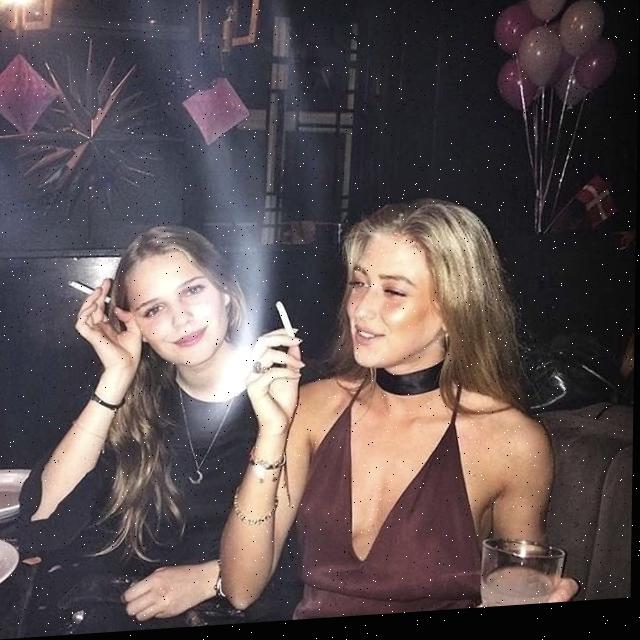cigarette: (68, 279, 113, 307), (276, 304, 296, 343)
